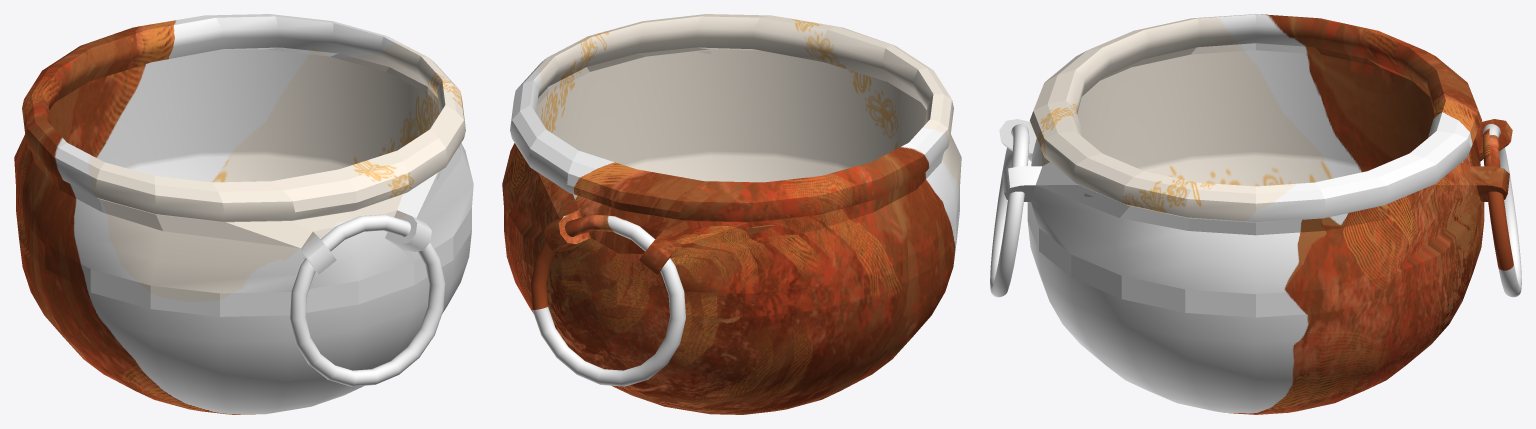
File: cookingpotbig.obj
3 views of the same model, side by side, from view 1: azimuth 30°, elevation 25°; view 2: azimuth 150°, elevation 25°; view 3: azimuth 270°, elevation 25° (orthographic).
Visible parts, largest first — view 1: pSphere5, pTorus1; view 2: pSphere5, pTorus1; view 3: pSphere5, pTorus1.
Boxes of the visible parts, bbox=[...] form: pSphere5: bbox=[14, 14, 473, 414]; pTorus1: bbox=[290, 214, 445, 386]; pSphere5: bbox=[502, 14, 961, 414]; pTorus1: bbox=[530, 214, 685, 386]; pSphere5: bbox=[999, 14, 1512, 414]; pTorus1: bbox=[990, 124, 1521, 297].
Bounding box in the file's own units: 2 × 1.4 × 2.33.
